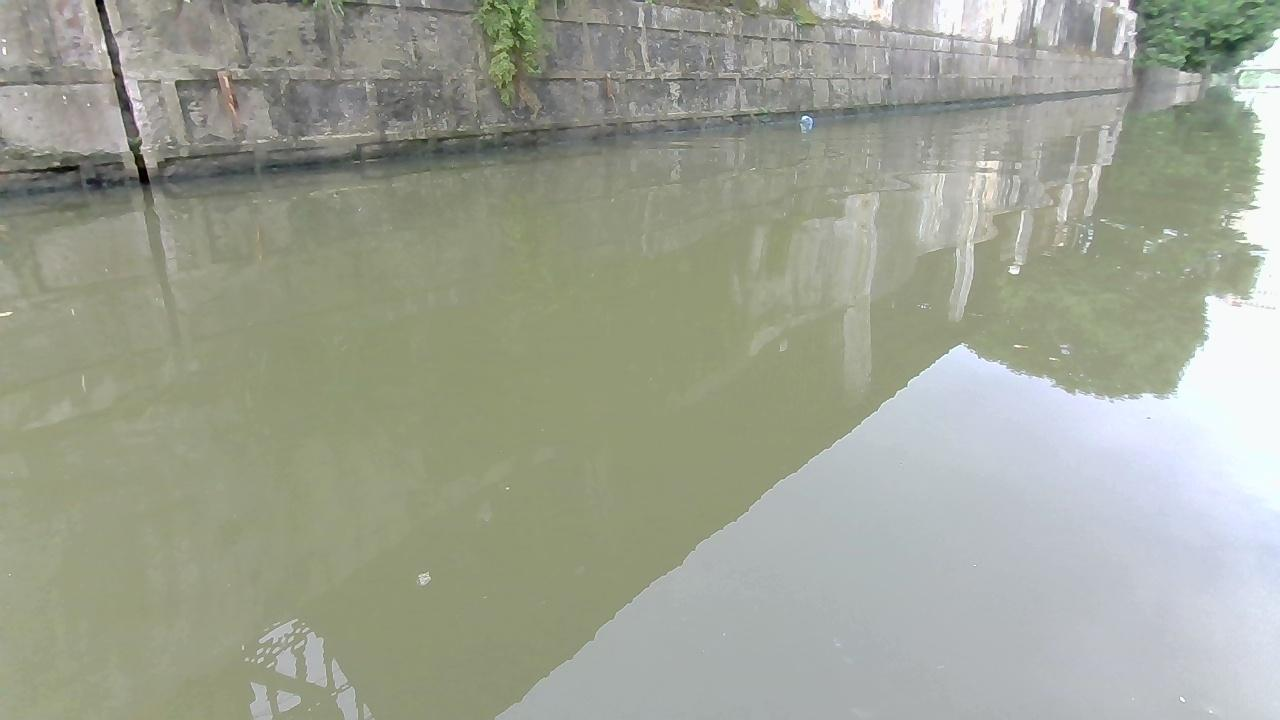bottle: (796, 110, 814, 128)
